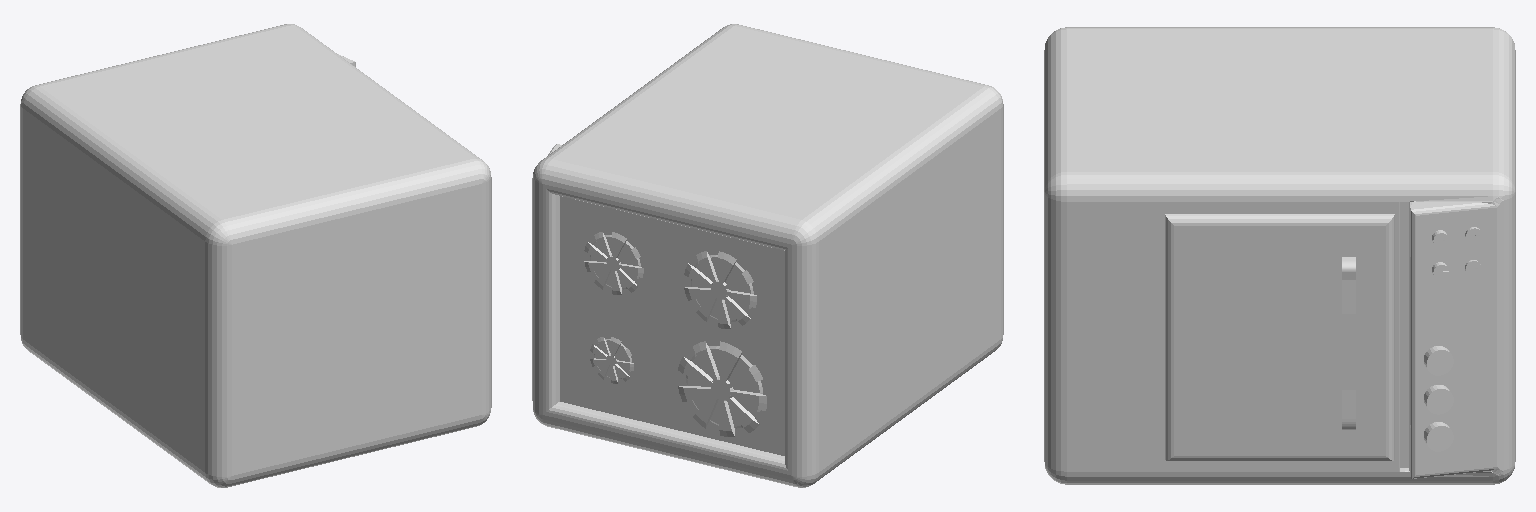
robot.urdf — oven.urdf:
<?xml version="1.0" ?>
<robot name="oven.urdf">
  <material name="White">
    <color rgba=".9 .9 .9 1"/>
  </material>
  <link name="base_link">
    <contact>
      <lateral_friction value="1.0"/>
    </contact>
    <inertial>
      <origin rpy="0 0 0" xyz="0 0 0"/>
      <mass value=".0"/>
      <inertia ixx="1" ixy="0" ixz="0" iyy="1" iyz="0" izz="1"/>
    </inertial>
    <visual>
      <geometry>
		    <mesh filename='oven.obj' />
      </geometry>
      <material name="White"/>
    </visual>
    <collision>
      <geometry>
		    <mesh filename='oven.obj' />
      </geometry>
    </collision>
  </link>
</robot>

--- What the picture shows (computed from the rendered views, not written in the file) ---
The picture shows the robot from 3 angles, left to right: view 1: azimuth 30°, elevation 25°; view 2: azimuth 150°, elevation 25°; view 3: azimuth 270°, elevation 25°; orthographic projection.
Model oven.urdf with 1 links and 0 joints (none), rooted at base_link, posed every joint at zero.
Visible links, largest first — view 1: base_link; view 2: base_link; view 3: base_link.
Boxes of the visible links, bbox=[...] form: base_link: bbox=[20, 24, 491, 487]; base_link: bbox=[532, 24, 1003, 487]; base_link: bbox=[1044, 27, 1515, 484].
Size in the robot's own frame: 145 by 166 by 121 metres.
Meshes: 1 distinct files referenced, 1 mesh visuals loaded (1 OBJ).
